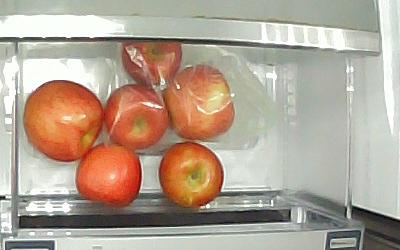apple: (21, 80, 103, 164), (158, 141, 225, 207), (76, 142, 143, 207)
apple_vinyl: (165, 64, 235, 143), (103, 85, 169, 150), (118, 42, 180, 87)
